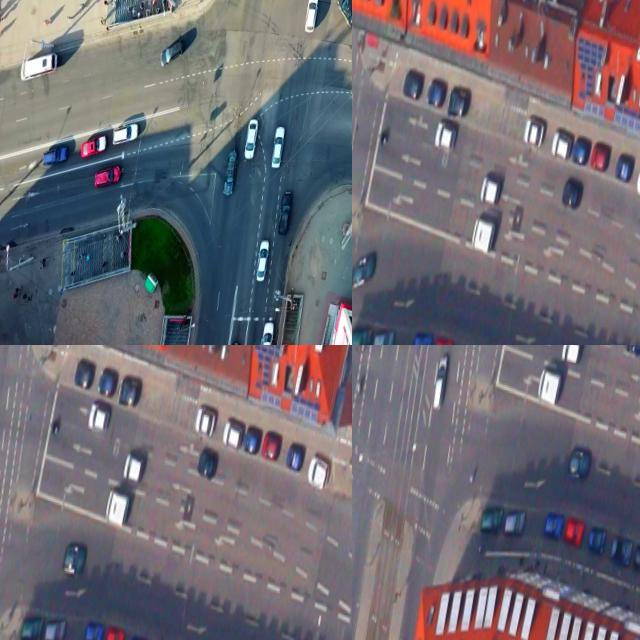UAI: (352, 247, 378, 293), (430, 353, 449, 410), (305, 455, 332, 491), (158, 35, 185, 70), (275, 190, 295, 236), (220, 149, 239, 196), (62, 541, 88, 575), (79, 131, 107, 162), (608, 532, 633, 566), (92, 162, 121, 191), (566, 447, 592, 479), (253, 239, 272, 282), (111, 120, 140, 148), (269, 124, 287, 169), (432, 119, 457, 151), (72, 358, 96, 391), (196, 447, 220, 480), (402, 67, 426, 99), (478, 174, 502, 206), (118, 374, 142, 406), (613, 150, 636, 183), (561, 176, 584, 208), (589, 140, 612, 172), (221, 419, 244, 451), (41, 143, 69, 169), (586, 524, 608, 557), (87, 402, 111, 432), (480, 505, 504, 535), (96, 366, 118, 398), (284, 439, 306, 471), (242, 118, 259, 159), (19, 613, 44, 640), (549, 130, 573, 158), (542, 510, 564, 540), (447, 87, 470, 115), (122, 454, 145, 482), (193, 408, 216, 436), (503, 508, 526, 536), (564, 517, 585, 547), (43, 614, 67, 640), (261, 431, 283, 459), (301, 0, 319, 33), (523, 119, 545, 146), (426, 79, 447, 107), (241, 426, 262, 454), (571, 136, 591, 164), (333, 0, 352, 27), (256, 320, 276, 345), (559, 345, 583, 365), (82, 620, 104, 640), (371, 327, 395, 345), (352, 325, 373, 345), (411, 329, 433, 345), (630, 543, 640, 576), (103, 627, 125, 640), (634, 165, 640, 201), (431, 336, 454, 345), (126, 633, 147, 640)
harvester: (18, 48, 59, 86), (102, 487, 131, 526), (469, 215, 497, 254), (535, 367, 563, 406)
